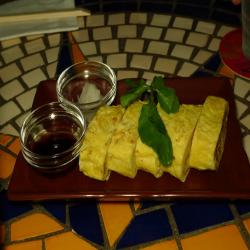omelette: (78, 93, 235, 183)
